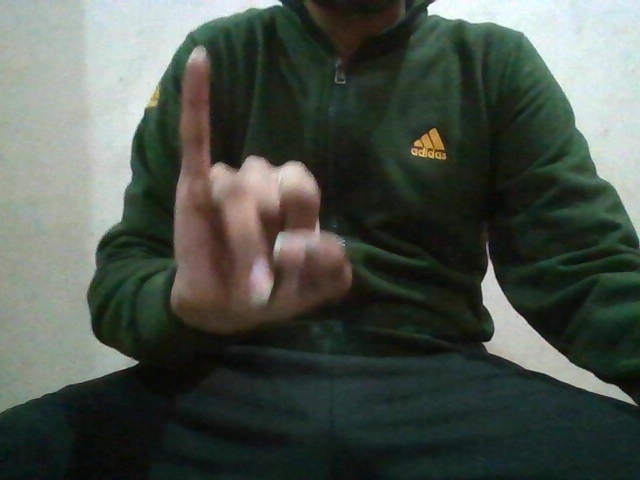I: (167, 40, 359, 336)
